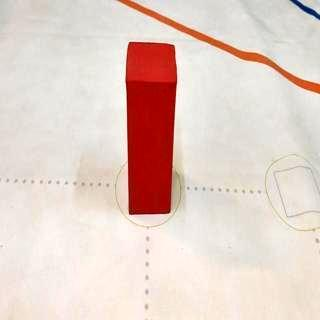redbox: (127, 45, 173, 214)
